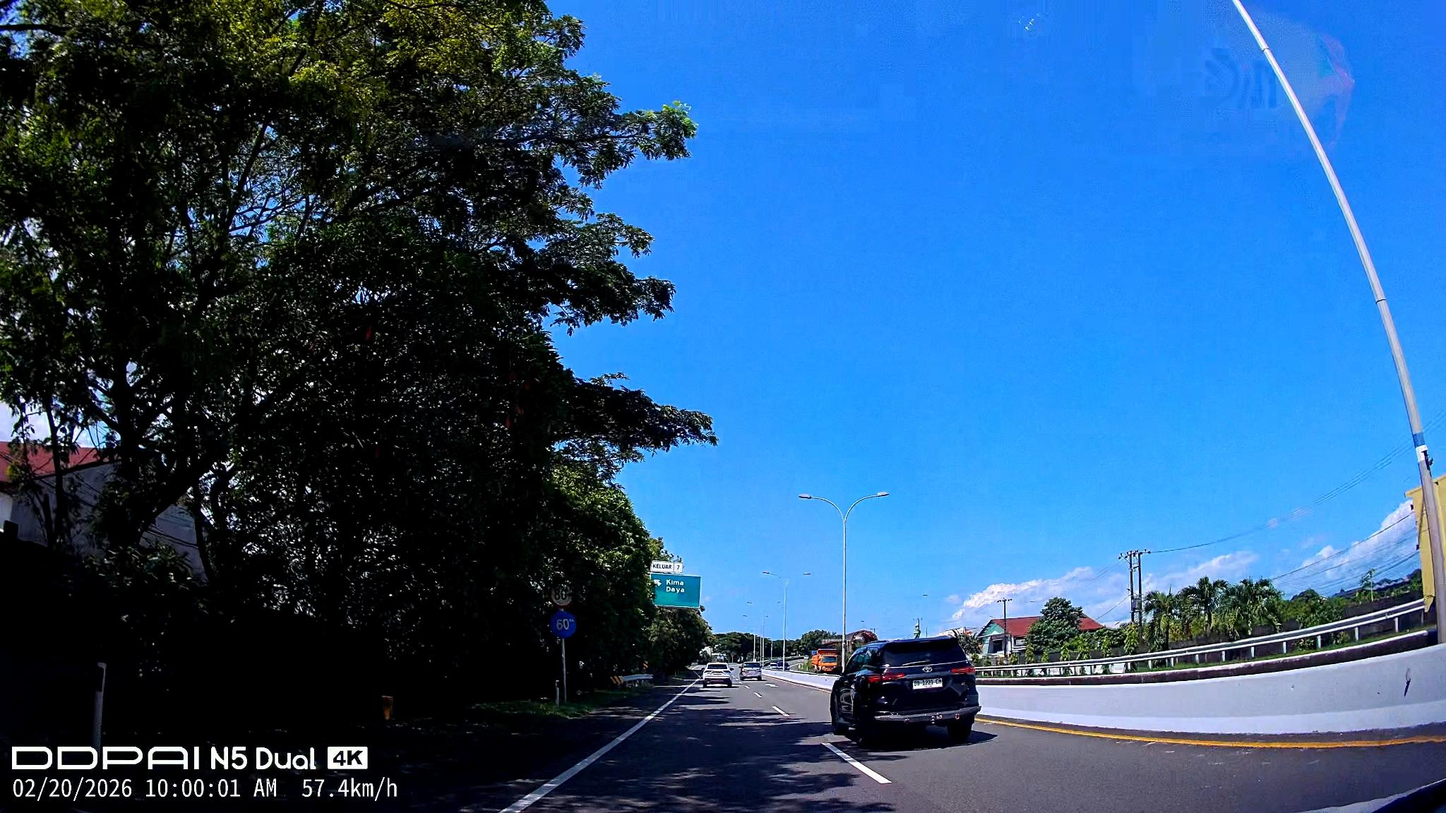rambu_teks: (649, 571, 702, 609)
